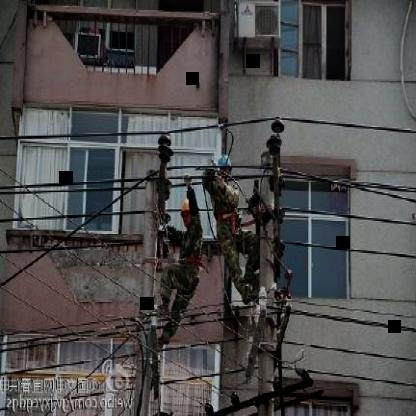helmet: (213, 152, 233, 188), (178, 194, 198, 228)
